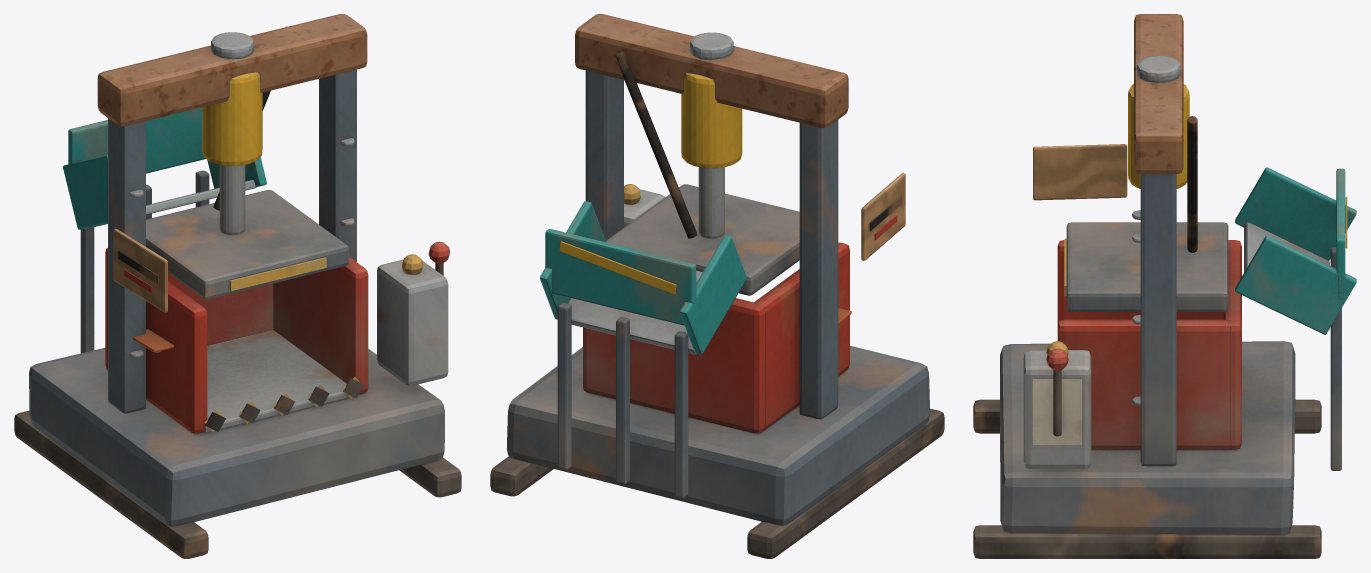
File: scrap_press.glb
3 views of the same model, side by side, from view 1: azimuth 30°, elevation 25°; view 2: azimuth 150°, elevation 25°; view 3: azimuth 270°, elevation 25° (orthographic).
Parts seen in each view (by area): view 1: ScrapPress_Mesh, Ram_Mesh; view 2: ScrapPress_Mesh, Ram_Mesh; view 3: ScrapPress_Mesh, Ram_Mesh, Lever_Mesh.
Part boxes in pixels (x1,y1,x2,y2): ScrapPress_Mesh: (14,14,461,558); Ram_Mesh: (146,165,349,299); ScrapPress_Mesh: (490,14,944,558); Ram_Mesh: (606,167,799,295); ScrapPress_Mesh: (973,14,1356,558); Ram_Mesh: (1064,222,1228,312); Lever_Mesh: (1046,348,1068,436).
Size of the model in its own units: 1.6 by 2.1 by 1.71.
Materials: 3 (3 with a texture image).
